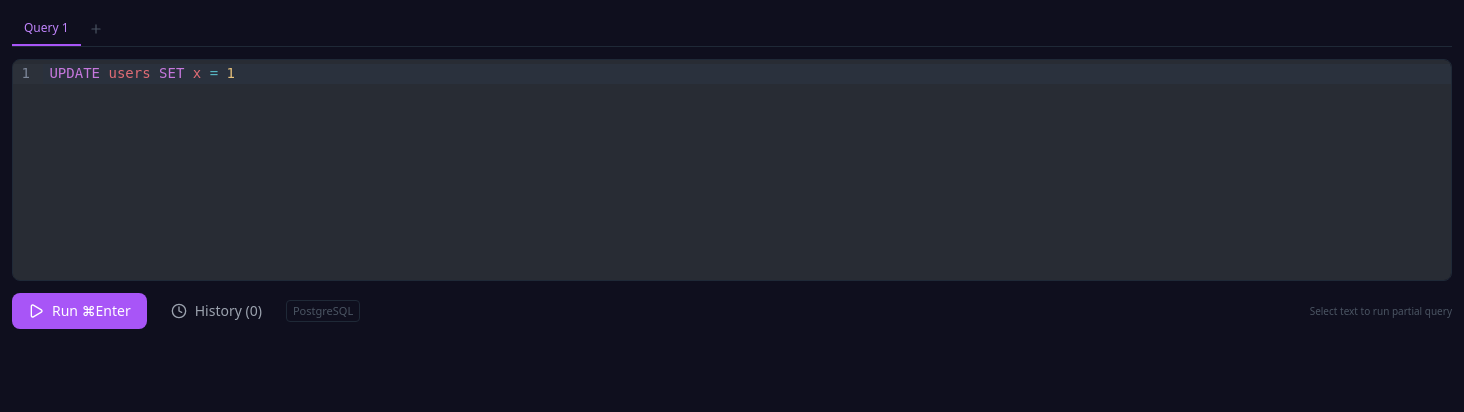
it: SqlEditorPage › a statement without rows reports how many it touched
This screenshot has width=1464, height=412.
Click the button with test id "run-query-btn" at [79, 311], box top-left (12, 293), bottom-right (147, 329)
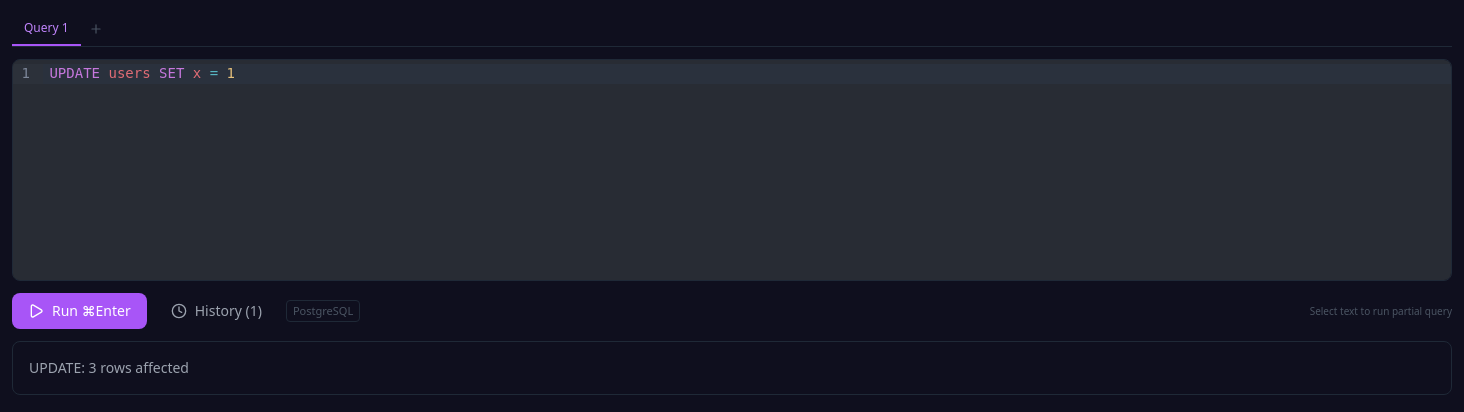
Now the text with test id "query-success" reads "UPDATE: 3 rows affected", box top-left (29, 358), bottom-right (189, 377)
